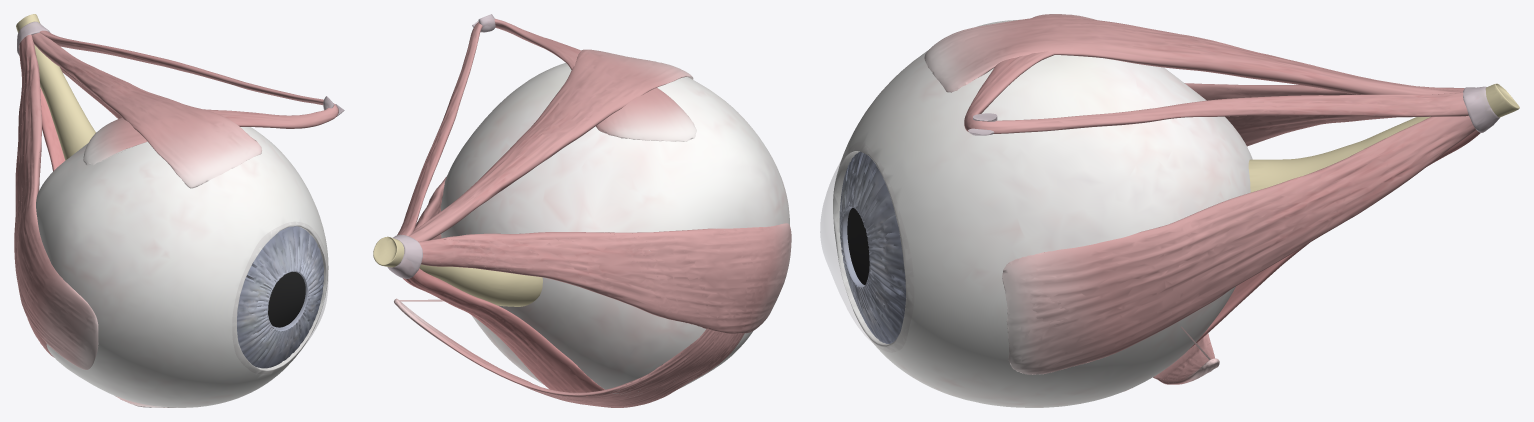
File: eye.glb
3 views of the same model, side by side, from view 1: azimuth 30°, elevation 25°; view 2: azimuth 150°, elevation 25°; view 3: azimuth 270°, elevation 25° (orthographic). The views are drawn at different scales.
Parts seen in each view (by area): view 1: Object_35, Object_33, Object_24, Object_39, Object_19, Object_7, Object_20, Object_30, Object_41, Object_16, Object_37; view 2: Object_35, Object_19, Object_24, Object_20, Object_7, Object_16, Object_30, Object_12, Object_11, Object_10, Object_37, Object_28; view 3: Object_35, Object_28, Object_24, Object_33, Object_7, Object_39, Object_30, Object_19, Object_20, Object_16, Object_41, Object_37 (+3 smaller).
Part boxes in pixels (box(x1,y1,x2,y2)): Object_35: box(36, 127, 328, 407); Object_33: box(233, 222, 328, 373); Object_24: box(31, 33, 261, 188); Object_39: box(237, 226, 323, 368); Object_19: box(14, 34, 97, 369); Object_7: box(39, 30, 338, 165); Object_20: box(14, 36, 98, 369); Object_30: box(16, 14, 95, 160); Object_41: box(268, 272, 305, 327); Object_16: box(40, 87, 176, 407); Object_37: box(17, 21, 50, 55); Object_35: box(440, 63, 789, 394); Object_19: box(418, 227, 791, 333); Object_24: box(409, 49, 693, 241); Object_20: box(423, 223, 791, 333); Object_7: box(397, 18, 696, 236); Object_16: box(402, 268, 669, 402); Object_30: box(373, 236, 542, 306); Object_12: box(397, 300, 718, 405); Object_11: box(395, 298, 740, 407); Object_10: box(394, 299, 744, 407); Object_37: box(387, 234, 422, 278); Object_28: box(414, 176, 446, 239); Object_35: box(833, 19, 1252, 407); Object_28: box(1002, 115, 1475, 374); Object_24: box(924, 16, 1462, 94); Object_33: box(820, 142, 913, 351); Object_7: box(964, 14, 1468, 133); Object_39: box(839, 151, 905, 343); Object_30: box(1248, 83, 1519, 192); Object_19: box(1184, 83, 1464, 146); Object_20: box(1192, 84, 1462, 144); Object_16: box(1124, 130, 1480, 391); Object_41: box(847, 207, 869, 284); Object_37: box(1463, 86, 1499, 132).
Bounding box in the file's own units: 17.19 × 16.34 × 27.76.
